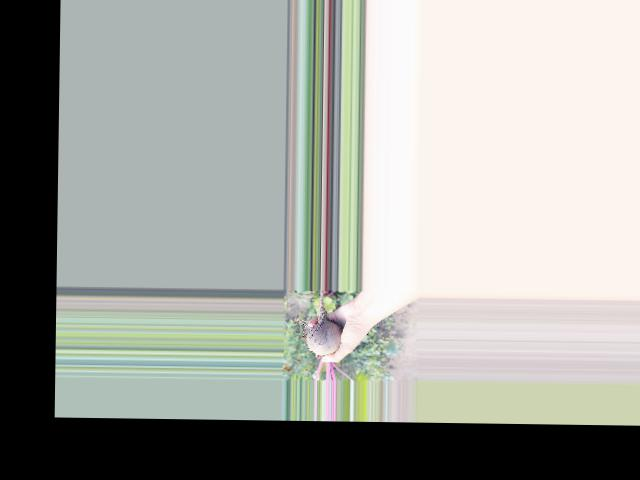beet: (292, 288, 355, 380)
